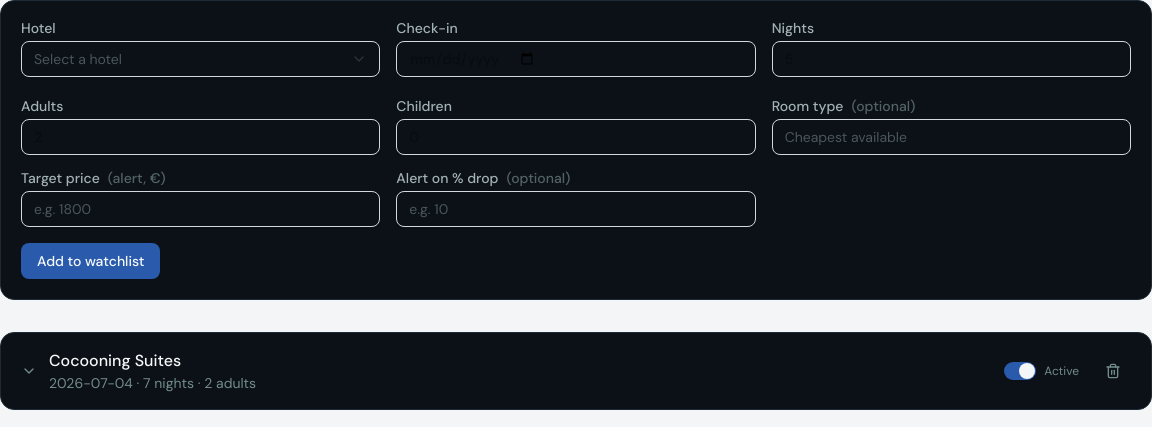
it: WatchlistManager › removes a stay
Click the button named "Remove". click: click(1113, 371)
box: [1095,353,1131,389]
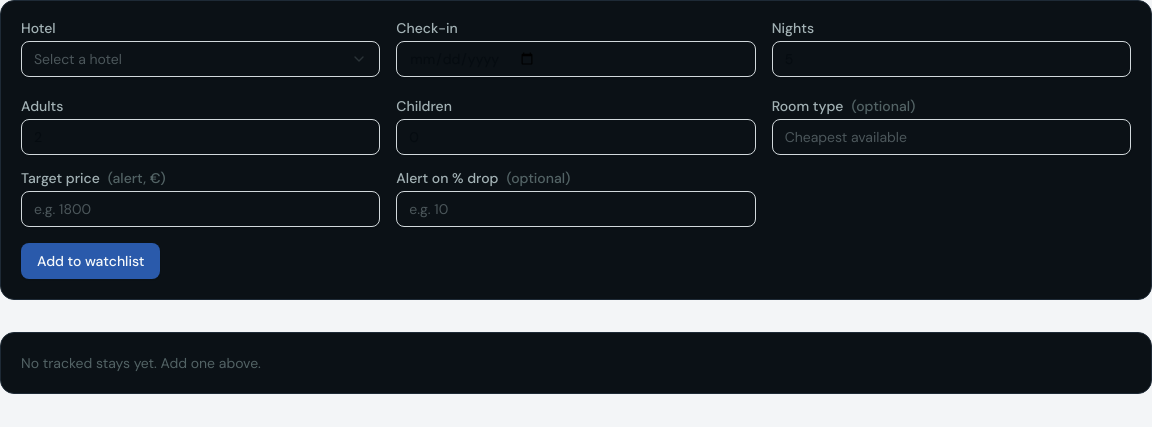
Result: the text "No tracked stays yet. Add one above." is shown at [21,354,261,372]
